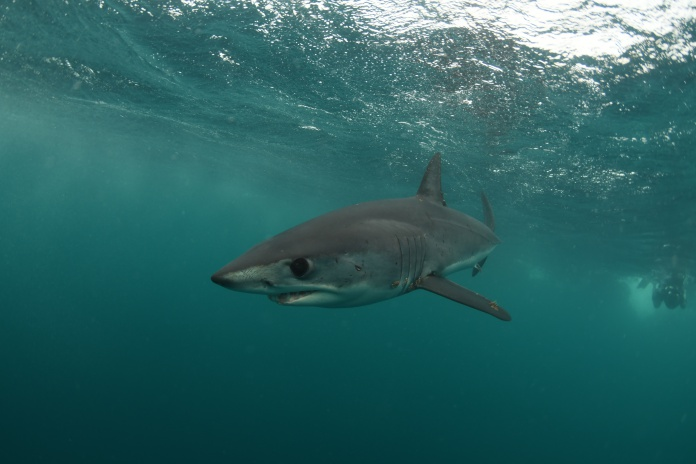Mako: (203, 145, 524, 346)
